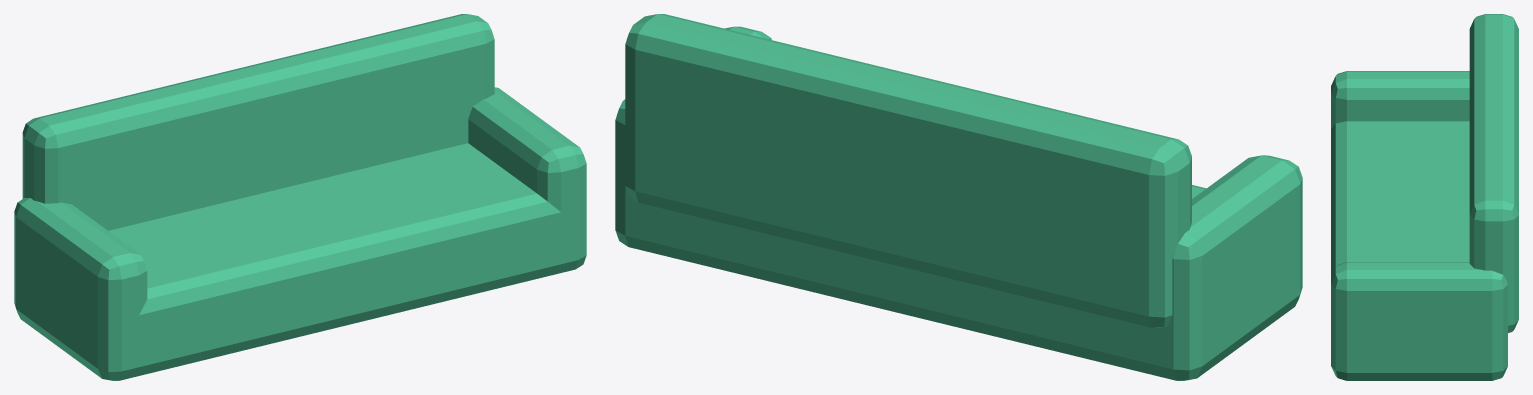
Rendered from sofa.glb.
The picture shows the model from 3 angles, left to right: view 1: azimuth 30°, elevation 25°; view 2: azimuth 150°, elevation 25°; view 3: azimuth 270°, elevation 25°; orthographic projection. The views are drawn at different scales.
Parts seen in each view (by area): view 1: Cube.001; view 2: Cube.001; view 3: Cube.001.
Boxes of the visible parts, x1,y1,x2,y2 form: Cube.001: (14, 14, 586, 380); Cube.001: (615, 14, 1302, 380); Cube.001: (1331, 14, 1518, 380).
Size of the model in its own units: 2.55 by 0.975 by 0.955.
